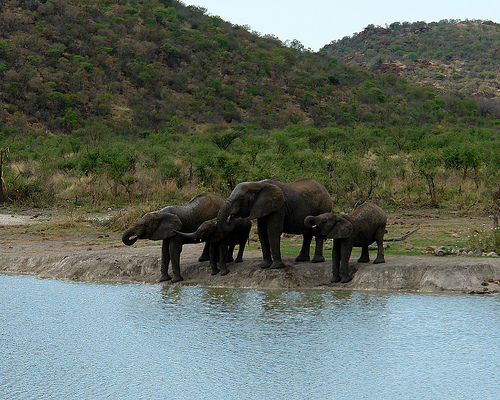elephant: (117, 187, 239, 289), (215, 176, 329, 271), (294, 197, 394, 292), (174, 214, 255, 278)
